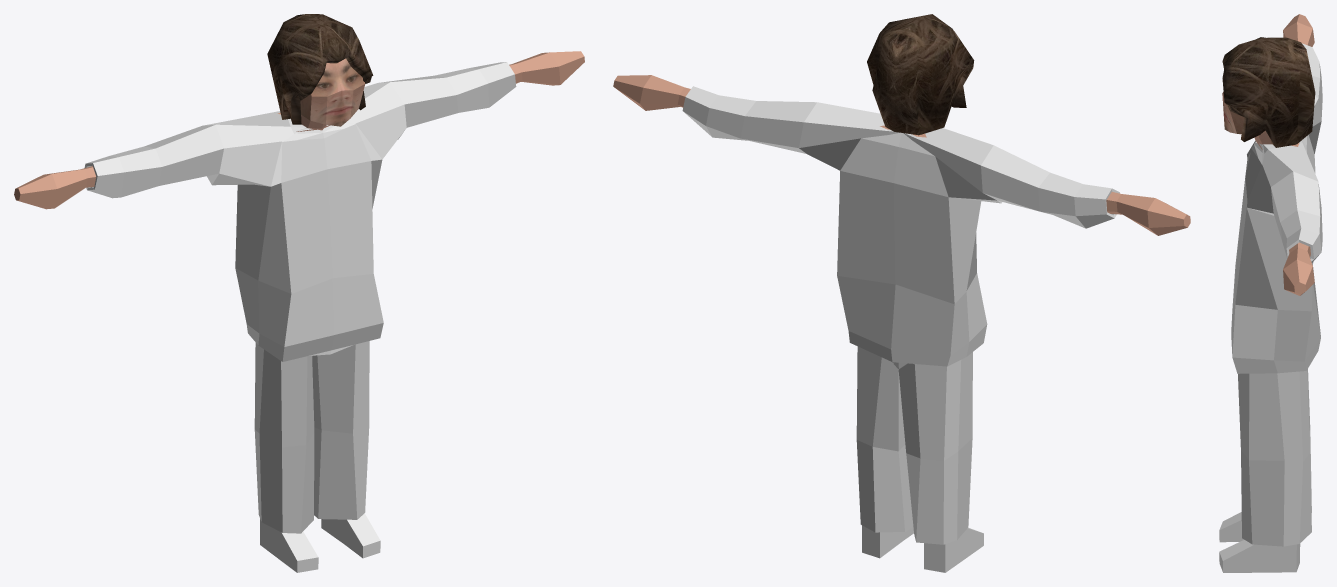
The model's file is jonah model.fbx.
3 views of the same model, side by side, from view 1: azimuth 30°, elevation 25°; view 2: azimuth 150°, elevation 25°; view 3: azimuth 270°, elevation 25° (orthographic). The views are drawn at different scales.
Visible parts, largest first — view 1: Cube.003, Cube.004, Cube.002, Cube, Cube.005, Cube.001; view 2: Cube.003, Cube.004, Cube.002, Cube, Cube.005; view 3: Cube.003, Cube.004, Cube.002, Cube.005, Cube, Cube.001.
Part boxes in pixels (x1,y1,x2,y2): Cube.003: [84, 62, 516, 361]; Cube.004: [254, 341, 369, 533]; Cube.002: [267, 14, 373, 124]; Cube: [14, 51, 584, 209]; Cube.005: [260, 513, 380, 572]; Cube.001: [300, 58, 365, 126]; Cube.003: [682, 86, 1119, 366]; Cube.004: [856, 346, 972, 544]; Cube.002: [867, 14, 974, 135]; Cube: [613, 75, 1190, 235]; Cube.005: [862, 525, 983, 572]; Cube.003: [1231, 43, 1322, 373]; Cube.004: [1238, 369, 1311, 546]; Cube.002: [1222, 37, 1315, 147]; Cube.005: [1219, 512, 1300, 572]; Cube: [1254, 14, 1314, 295]; Cube.001: [1222, 91, 1266, 136].
Bounding box in the file's own units: 825 × 734 × 134.
